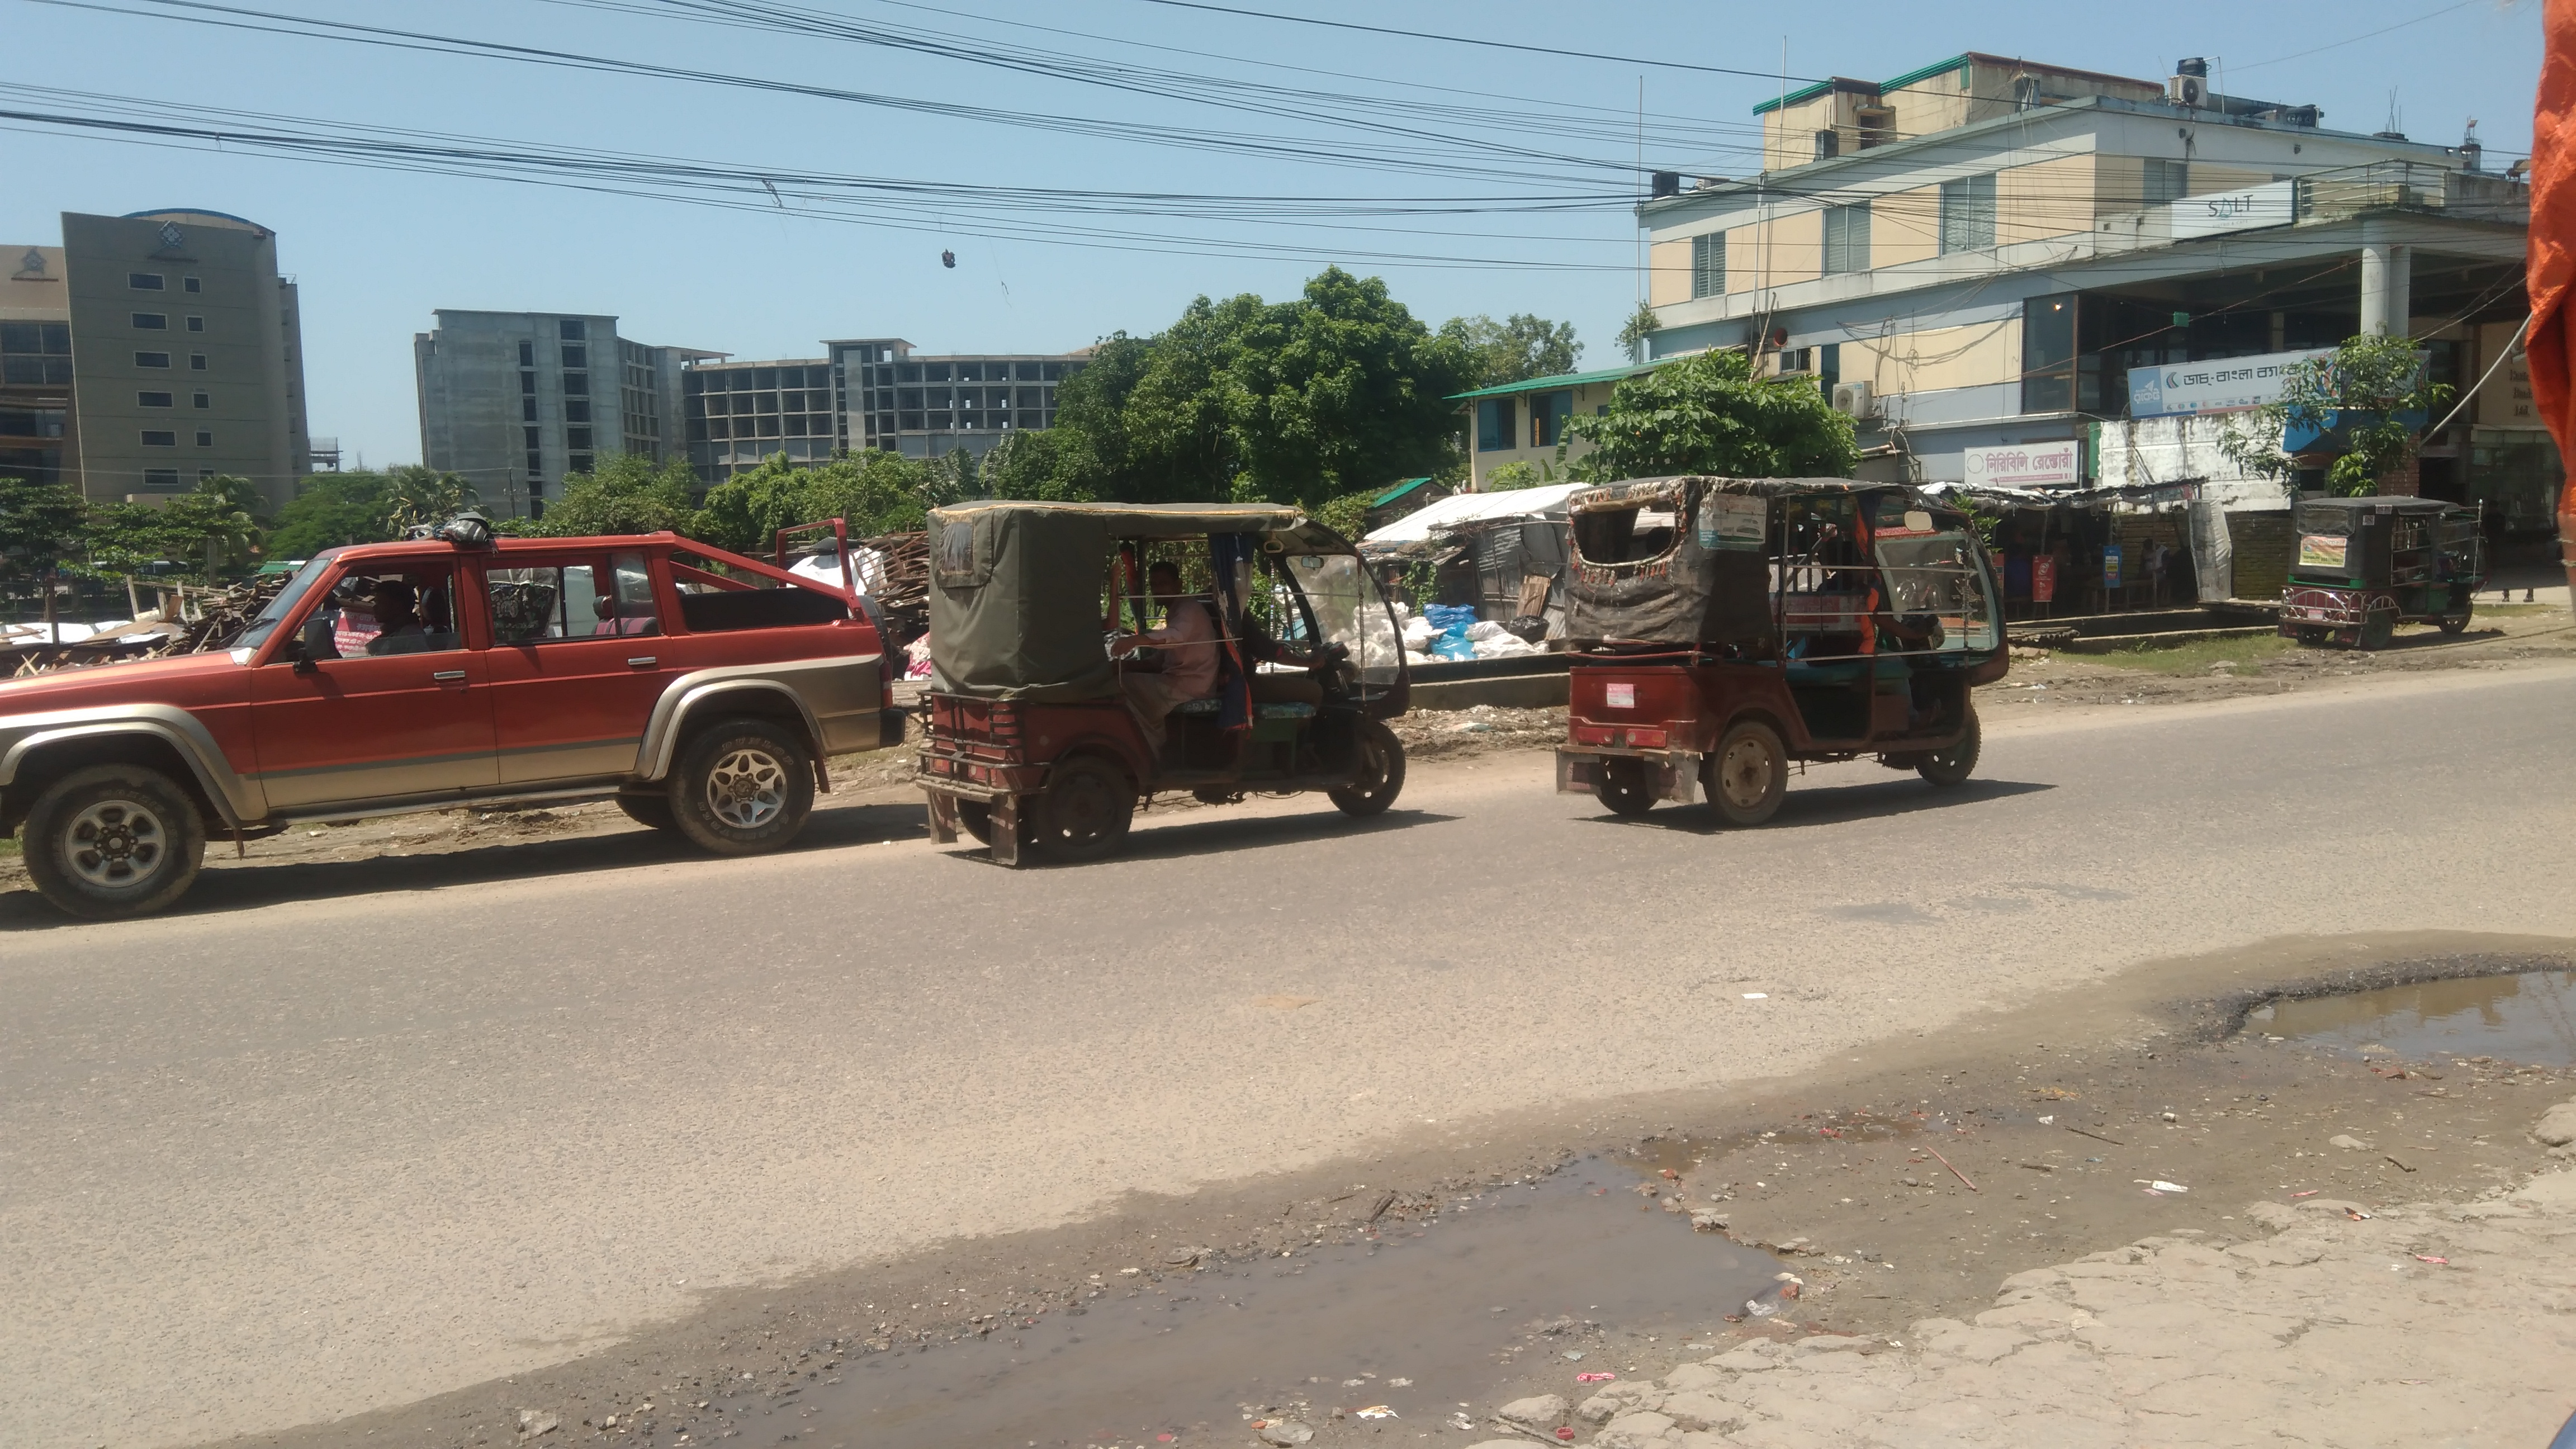car: (12, 524, 906, 954)
easybike: (897, 485, 1437, 862), (1537, 464, 2008, 835), (2272, 492, 2477, 644)
